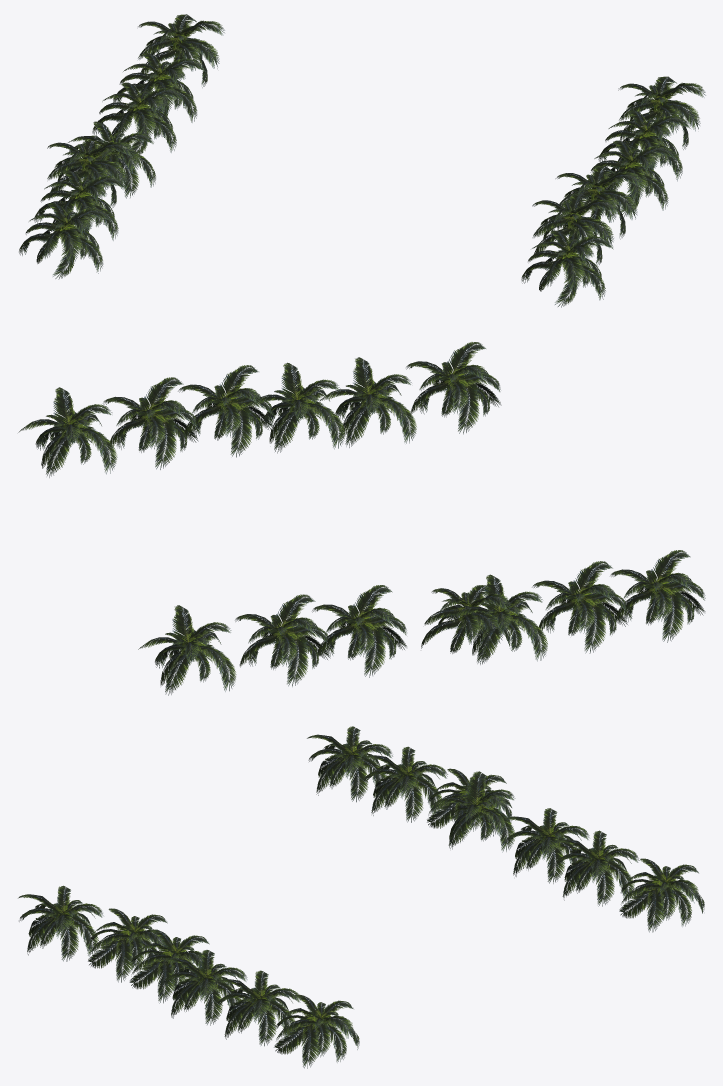
The model's file is TREE LEAVES 2.fbx.
3 renders of one model, top to bottom at view 1: azimuth 30°, elevation 25°; view 2: azimuth 150°, elevation 25°; view 3: azimuth 270°, elevation 25°, orthographic. The views are drawn at different scales.
Visible parts, largest first — view 1: Unity; view 2: Unity; view 3: Unity.
Part boxes in pixels (x1,y1,x2,y2): Unity: (19,14,705,307); Unity: (18,342,705,695); Unity: (18,726,704,1068).
Size of the model in its own units: 41.13 by 3.89 by 40.26.
Materials: 1 (1 with a texture image).
